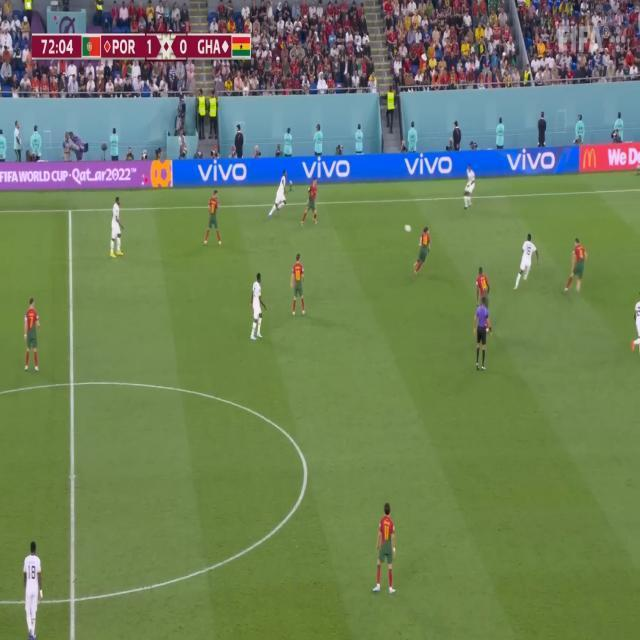football: (402, 208, 418, 244)
